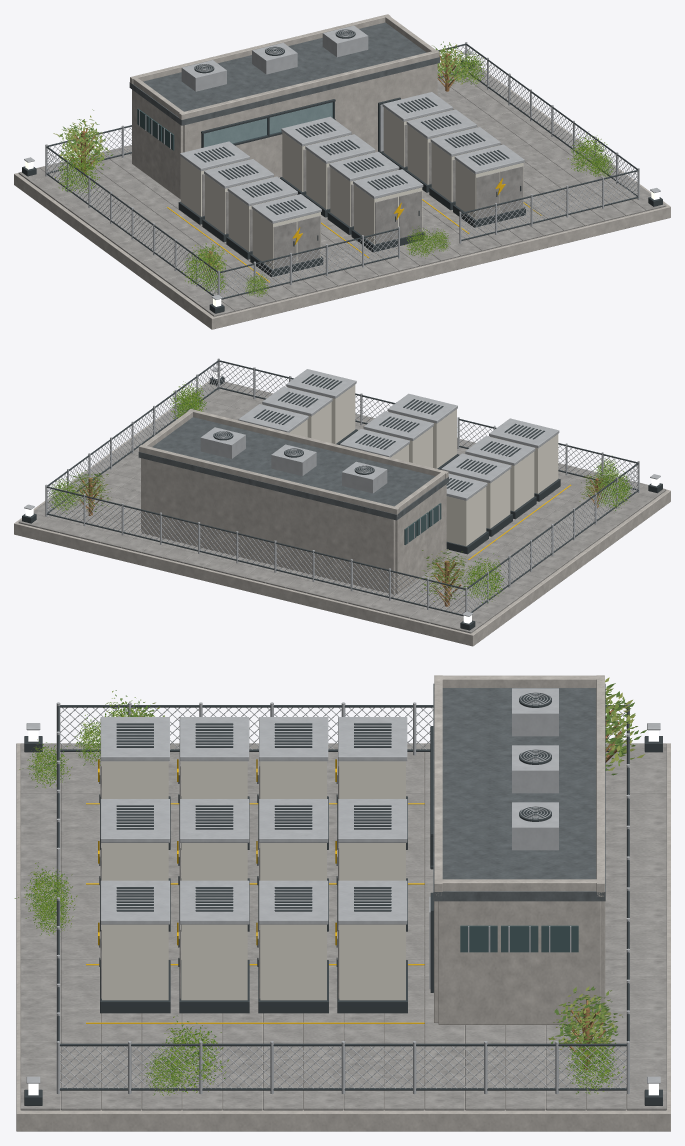
Rendered from sistema_baterias.fbx.
The picture shows the model from 3 angles, top to bottom: view 1: azimuth 30°, elevation 25°; view 2: azimuth 150°, elevation 25°; view 3: azimuth 270°, elevation 25°; orthographic projection. The views are drawn at different scales.
Visible parts, largest first — view 1: Solar · Loseta mineral, Pabellón de gestión · Prefabricado caliza, Cerramiento · Inox cepillado, Solar · Prefabricado caliza, Pabellón de gestión · Membrana bituminosa, Baterías · línea 3 · Esmalte marfil, Baterías · línea 2 · Inox cepillado, Baterías · línea 3 · Inox cepillado, Baterías · línea 1 · Inox cepillado, Baterías · línea 1 · Esmalte marfil, Baterías · línea 2 · Esmalte marfil, Pabellón de gestión · Inox cepillado (+19 smaller); view 2: Solar · Loseta mineral, Pabellón de gestión · Prefabricado caliza, Cerramiento · Inox cepillado, Solar · Prefabricado caliza, Pabellón de gestión · Membrana bituminosa, Baterías · línea 1 · Esmalte marfil, Cerramiento · Perfilería antracita, Baterías · línea 1 · Inox cepillado, Pabellón de gestión · Inox cepillado, Baterías · línea 3 · Inox cepillado, Baterías · línea 2 · Inox cepillado, Baterías · línea 3 · Esmalte marfil (+15 smaller); view 3: Solar · Loseta mineral, Pabellón de gestión · Prefabricado caliza, Pabellón de gestión · Membrana bituminosa, Baterías · línea 3 · Esmalte marfil, Solar · Prefabricado caliza, Cerramiento · Inox cepillado, Baterías · línea 3 · Inox cepillado, Baterías · línea 1 · Inox cepillado, Baterías · línea 2 · Inox cepillado, Baterías · línea 1 · Esmalte marfil, Baterías · línea 2 · Esmalte marfil, Baterías · línea 3 · Perfilería antracita (+19 smaller).
Boxes of the visible parts, x1,y1,x2,y2 form: Solar · Loseta mineral: (18, 65, 666, 316); Pabellón de gestión · Prefabricado caliza: (130, 14, 439, 199); Cerramiento · Inox cepillado: (45, 42, 639, 297); Solar · Prefabricado caliza: (14, 65, 670, 329); Pabellón de gestión · Membrana bituminosa: (129, 22, 439, 125); Baterías · línea 3 · Esmalte marfil: (383, 107, 523, 219); Baterías · línea 2 · Inox cepillado: (281, 116, 423, 198); Baterías · línea 3 · Inox cepillado: (382, 92, 524, 174); Baterías · línea 1 · Inox cepillado: (180, 141, 321, 223); Baterías · línea 1 · Esmalte marfil: (181, 157, 320, 269); Baterías · línea 2 · Esmalte marfil: (282, 132, 422, 244); Pabellón de gestión · Inox cepillado: (139, 25, 383, 151); Solar · Loseta mineral: (18, 381, 666, 633); Pabellón de gestión · Prefabricado caliza: (139, 409, 448, 594); Cerramiento · Inox cepillado: (45, 358, 639, 614); Solar · Prefabricado caliza: (14, 380, 670, 646); Pabellón de gestión · Membrana bituminosa: (138, 417, 448, 520); Baterías · línea 1 · Esmalte marfil: (446, 434, 558, 546); Cerramiento · Perfilería antracita: (46, 360, 638, 616); Baterías · línea 1 · Inox cepillado: (441, 418, 559, 500); Pabellón de gestión · Inox cepillado: (200, 427, 439, 543); Baterías · línea 3 · Inox cepillado: (238, 369, 356, 432); Baterías · línea 2 · Inox cepillado: (340, 393, 457, 457); Baterías · línea 3 · Esmalte marfil: (263, 384, 355, 443); Solar · Loseta mineral: (20, 743, 666, 1110); Pabellón de gestión · Prefabricado caliza: (434, 675, 605, 1024); Pabellón de gestión · Membrana bituminosa: (433, 683, 605, 901); Baterías · línea 3 · Esmalte marfil: (102, 924, 405, 1000); Solar · Prefabricado caliza: (16, 743, 670, 1131); Cerramiento · Inox cepillado: (56, 702, 629, 1094); Baterías · línea 3 · Inox cepillado: (100, 880, 407, 924); Baterías · línea 1 · Inox cepillado: (100, 717, 407, 761); Baterías · línea 2 · Inox cepillado: (100, 799, 407, 842); Baterías · línea 1 · Esmalte marfil: (102, 761, 405, 798); Baterías · línea 2 · Esmalte marfil: (102, 843, 405, 880); Baterías · línea 3 · Perfilería antracita: (99, 887, 407, 1013).
Bounding box in the file's own units: 15.4 × 3.56 × 11.54.
Materials: 18 (5 with a texture image).
